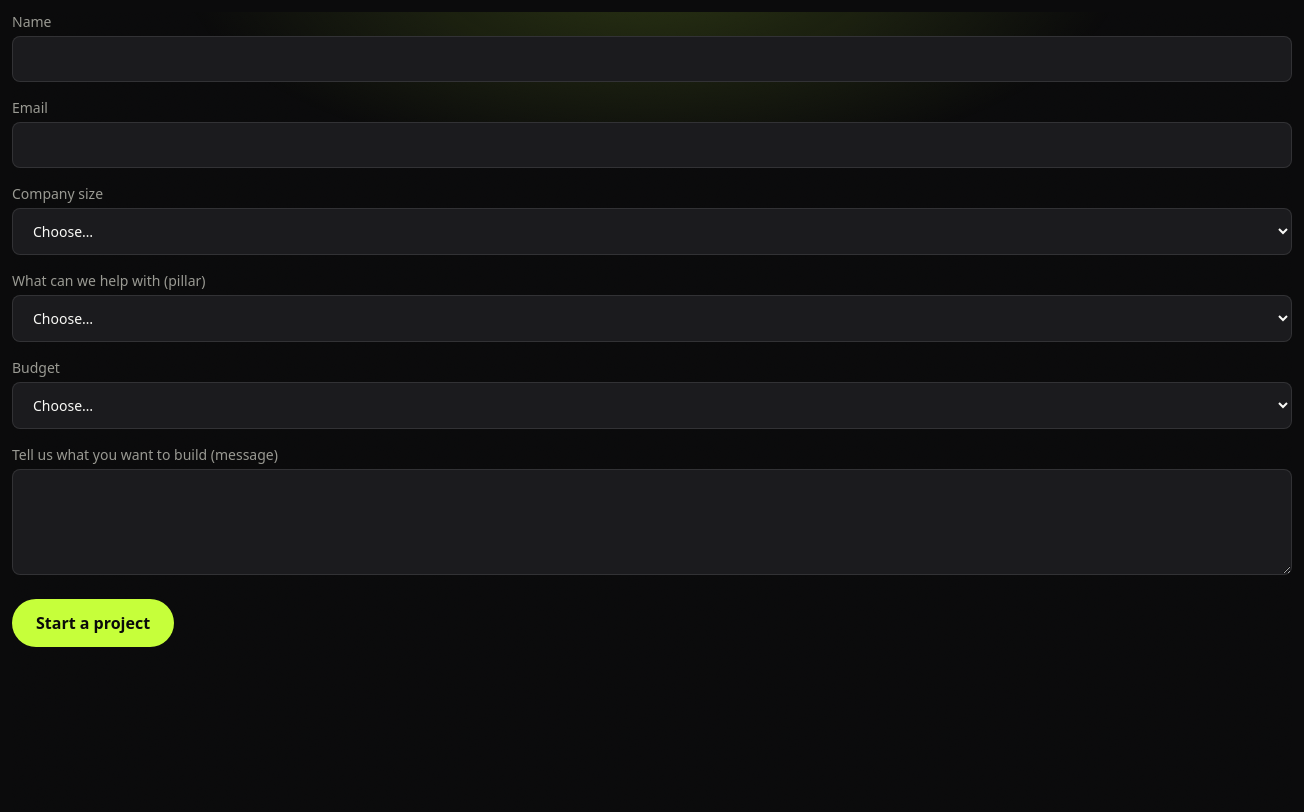
Test case: EnquiryForm › surfaces the 429 rate-limit error
Type "Ada" into the field labelled "Name" at (652, 59), box left=12, top=36, right=1292, bottom=82
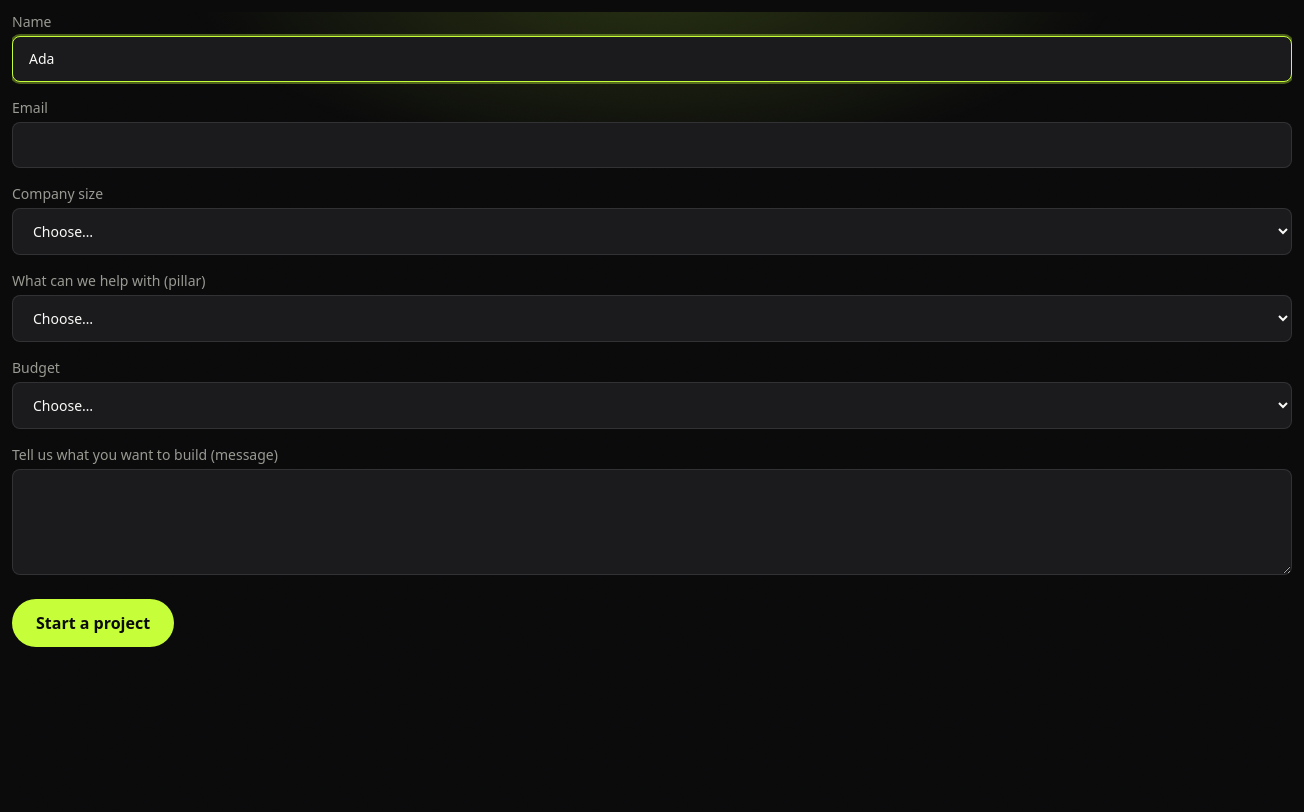
Type "ada@example.com" into the field labelled "Email" at (652, 145), box left=12, top=122, right=1292, bottom=168
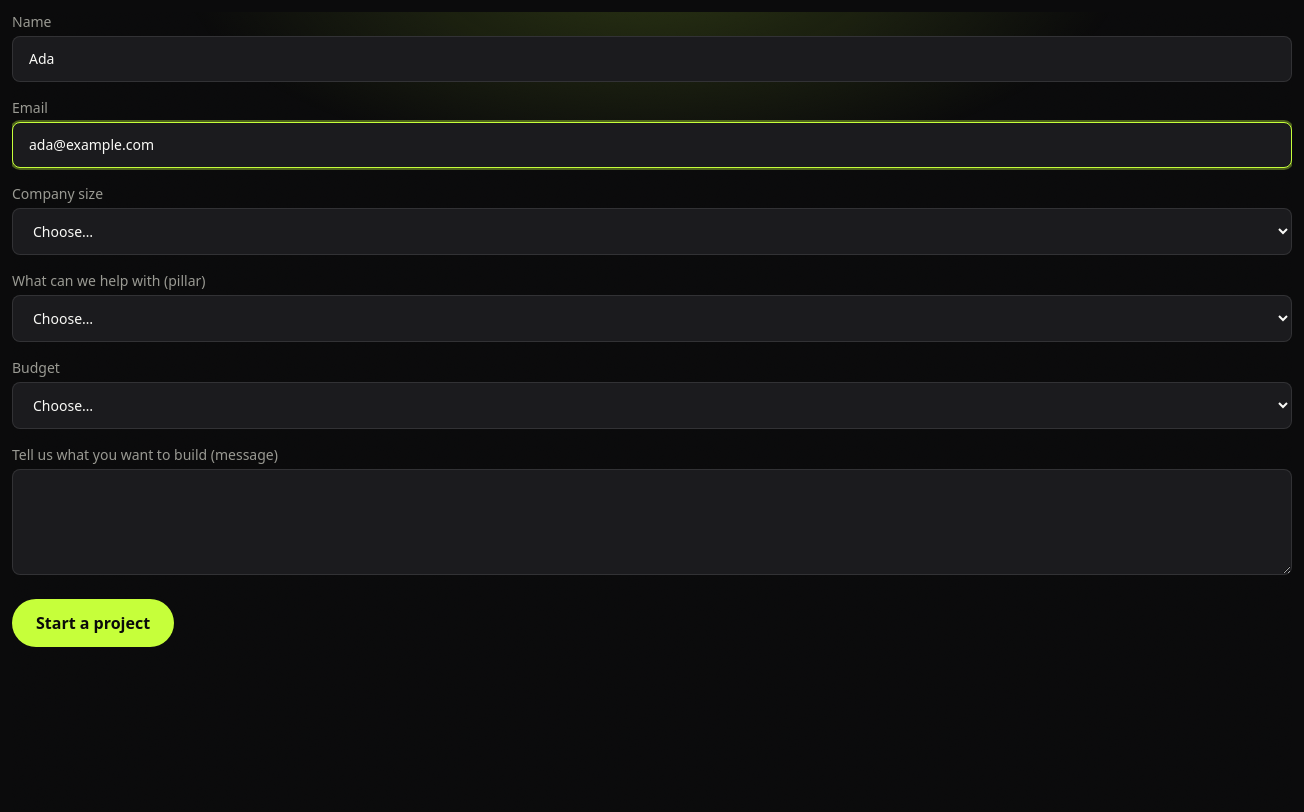
Click the button "Start a project" at (93, 623), box left=12, top=599, right=174, bottom=647
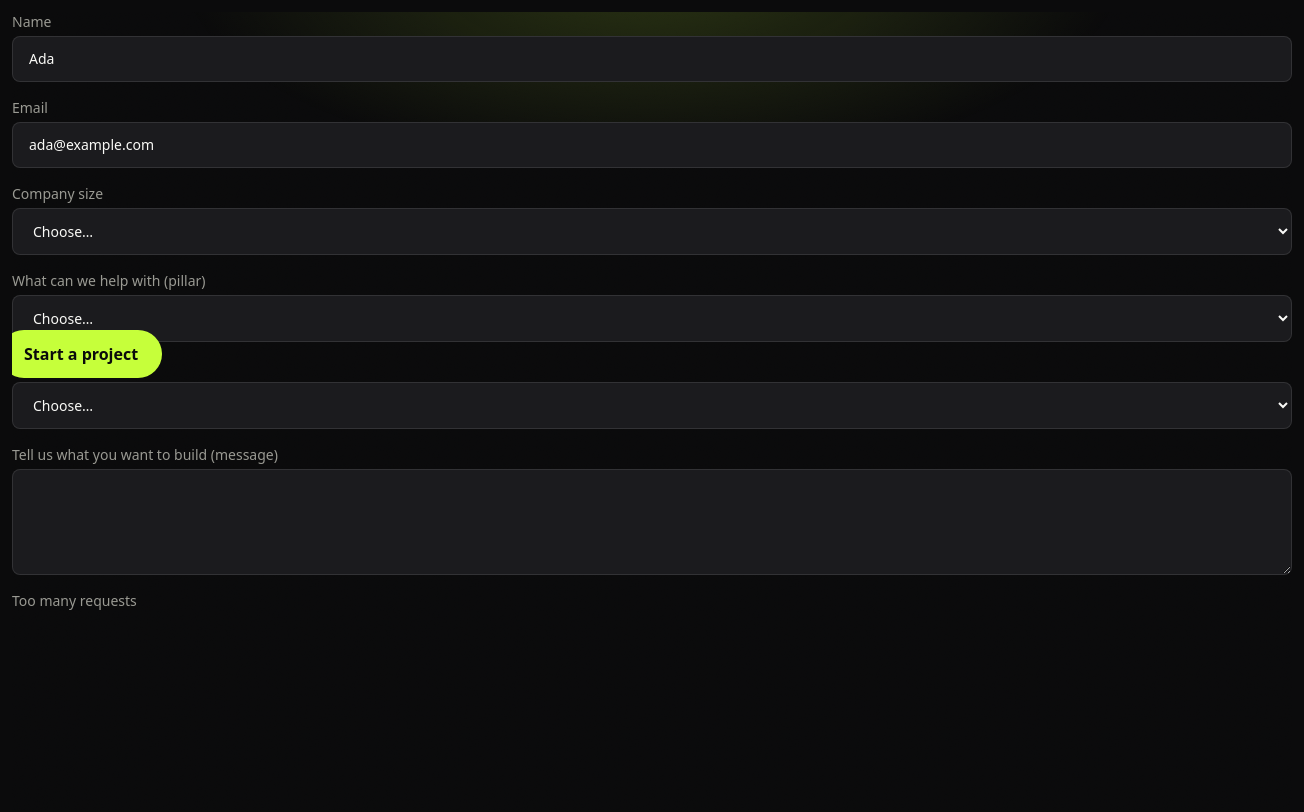
Result: the text "Too many requests" is shown at left=12, top=591, right=137, bottom=610
